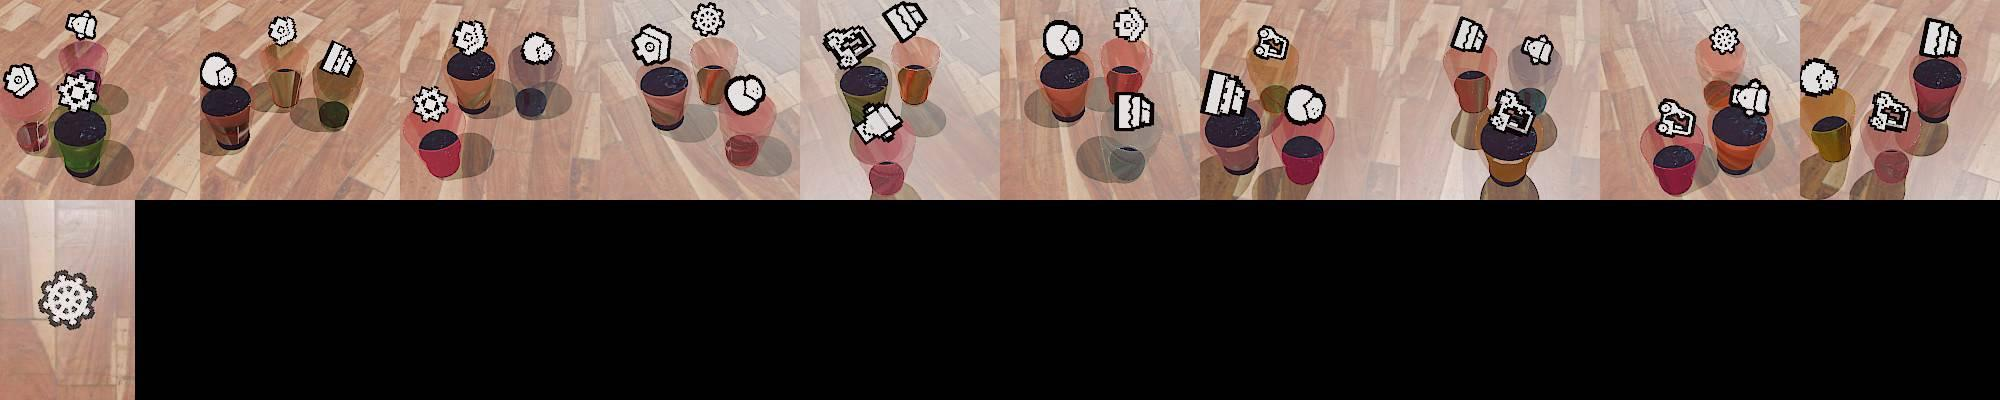icon: (36, 268, 97, 330), (1200, 68, 1249, 118), (1489, 88, 1537, 135), (823, 24, 874, 69), (55, 69, 101, 115), (881, 0, 929, 43), (853, 103, 903, 143), (630, 24, 673, 69), (1867, 90, 1911, 132), (1283, 84, 1327, 126), (1114, 89, 1156, 131), (724, 73, 767, 115), (1920, 18, 1962, 59), (1731, 76, 1772, 117), (1657, 96, 1696, 138), (409, 84, 452, 124), (1798, 56, 1839, 96), (1043, 19, 1084, 59), (199, 51, 237, 90), (1449, 17, 1487, 55), (320, 39, 357, 78), (1253, 24, 1290, 61), (690, 1, 727, 38), (452, 19, 489, 56), (1, 62, 40, 98), (1112, 6, 1148, 41), (519, 32, 556, 65), (1520, 34, 1556, 66), (65, 10, 98, 43), (1709, 23, 1740, 55), (265, 15, 297, 46)
